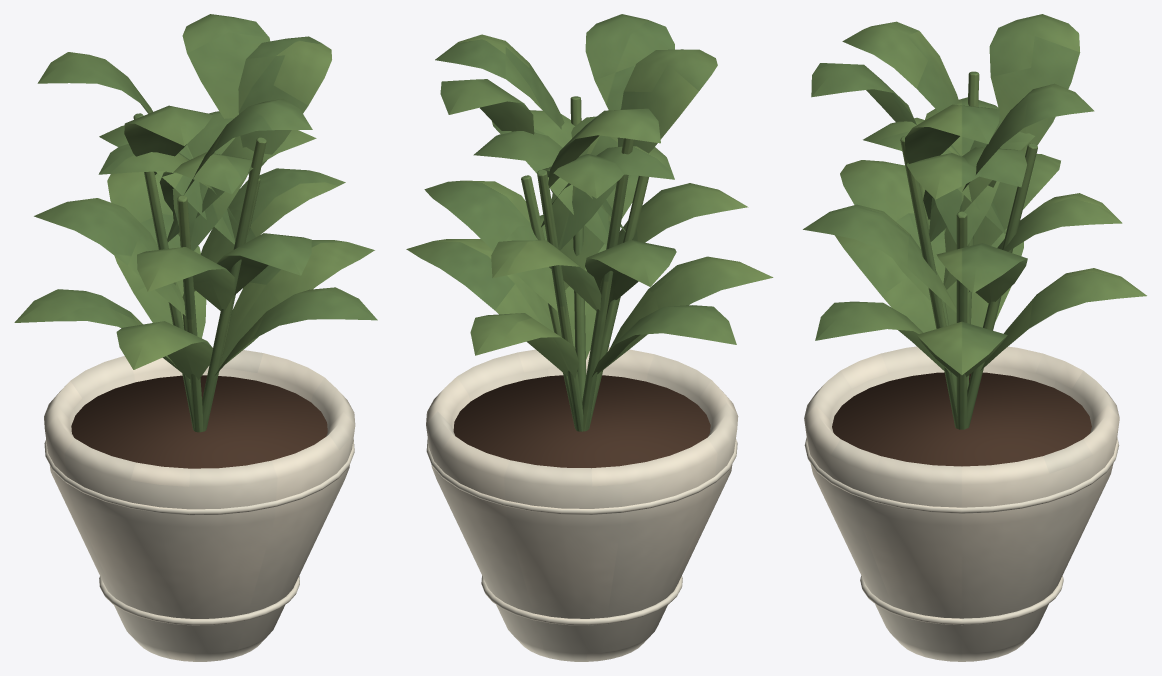
File: WC_CAFE_Planter_Table_A.glb
3 views of the same model, side by side, from view 1: azimuth 30°, elevation 25°; view 2: azimuth 150°, elevation 25°; view 3: azimuth 270°, elevation 25° (orthographic).
Visible parts, largest first — view 1: WC_CAFE_Planter_Table_A_RenderMesh; view 2: WC_CAFE_Planter_Table_A_RenderMesh; view 3: WC_CAFE_Planter_Table_A_RenderMesh.
Boxes of the visible parts, x1,y1,x2,y2 form: WC_CAFE_Planter_Table_A_RenderMesh: (14,14,377,661); WC_CAFE_Planter_Table_A_RenderMesh: (406,14,773,661); WC_CAFE_Planter_Table_A_RenderMesh: (803,14,1146,661).
Bounding box in the file's own units: 0.2914 × 0.4593 × 0.2492.
6 materials, 5 textured.
